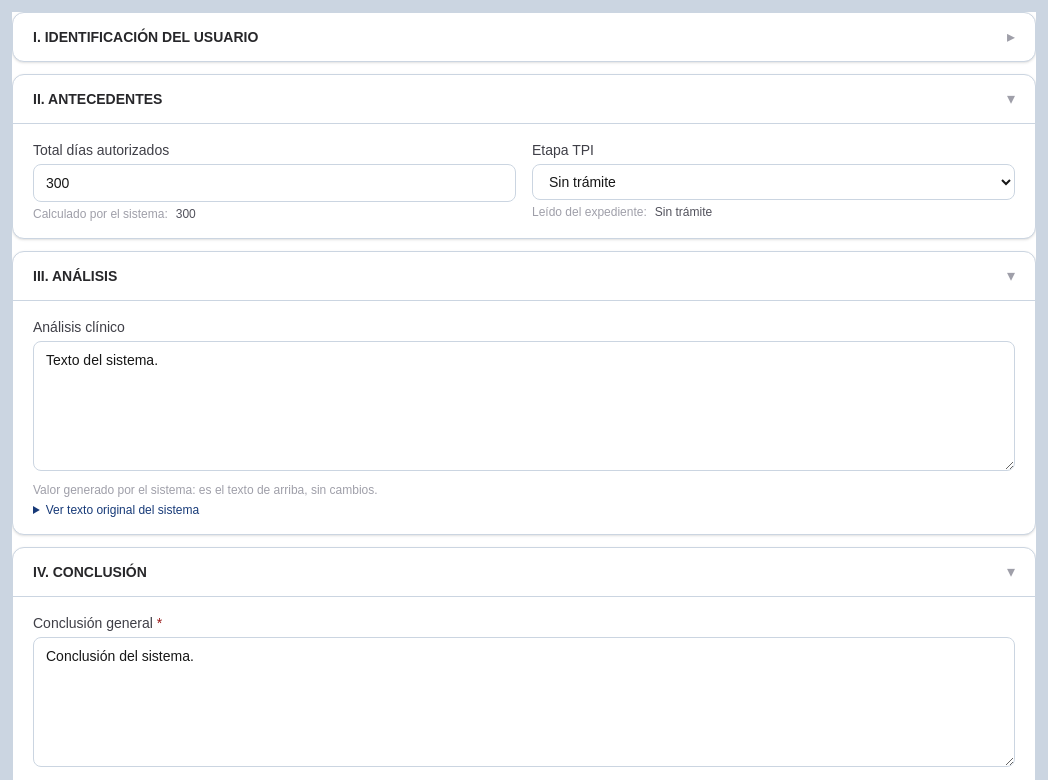
Test: lo que dijo el sistema › «restaurar» devuelve el valor del sistema y quita la marca
Replace the text in the number field labelled "Total días autorizados" with "285": (274,183) [33,164,516,202]
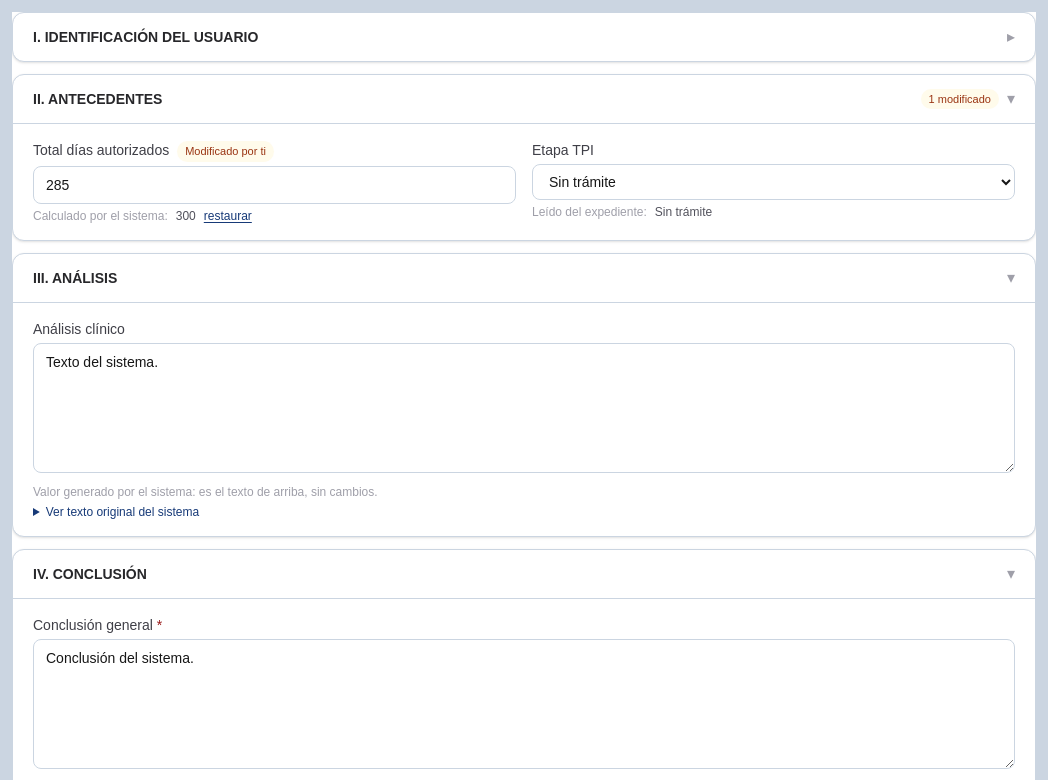
Check: the text "Modificado por ti" is shown once, box [177,141,274,162]
Click the button "restaurar": (228,216) [204,208,252,224]
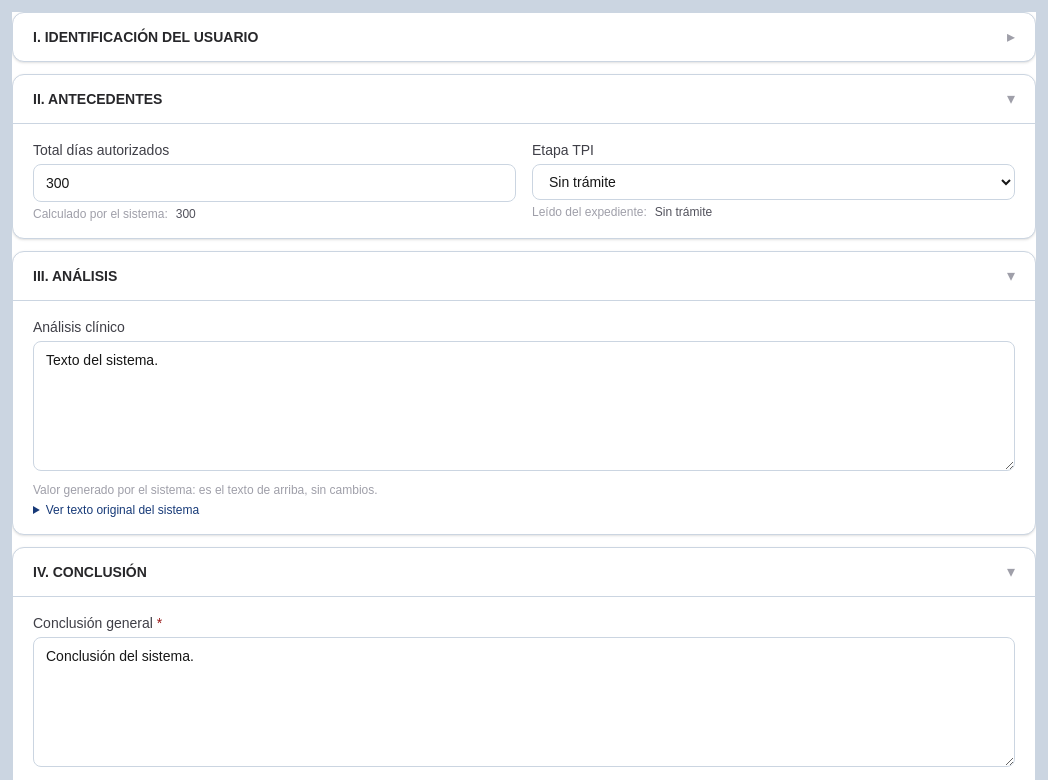
Check: the number field labelled "Total días autorizados" holds "300", box [33,164,516,202]
Check: the text "Modificado por ti" is gone
